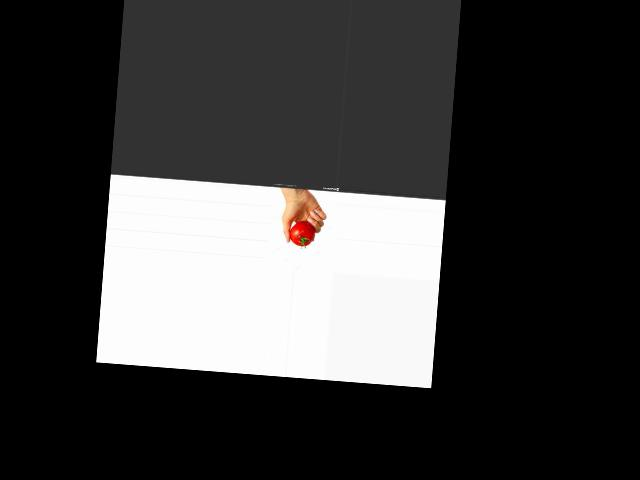tomato: (288, 220, 315, 247)
